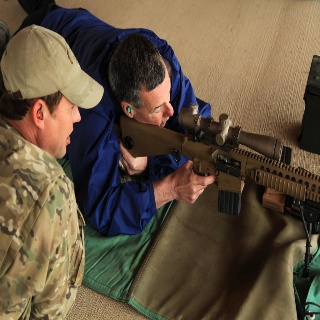rifle: (117, 106, 320, 272)
